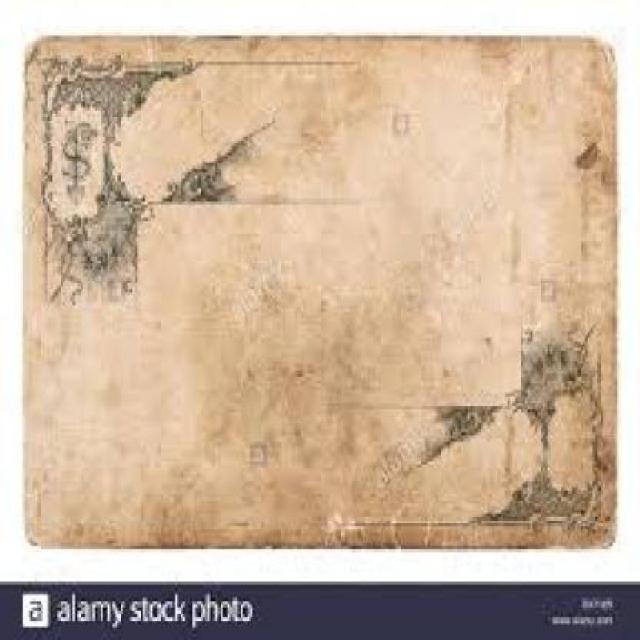CARDBOARD: (20, 32, 615, 550)
